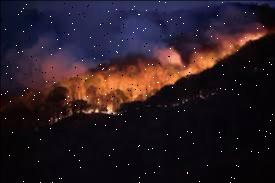fire: (58, 73, 153, 121)
